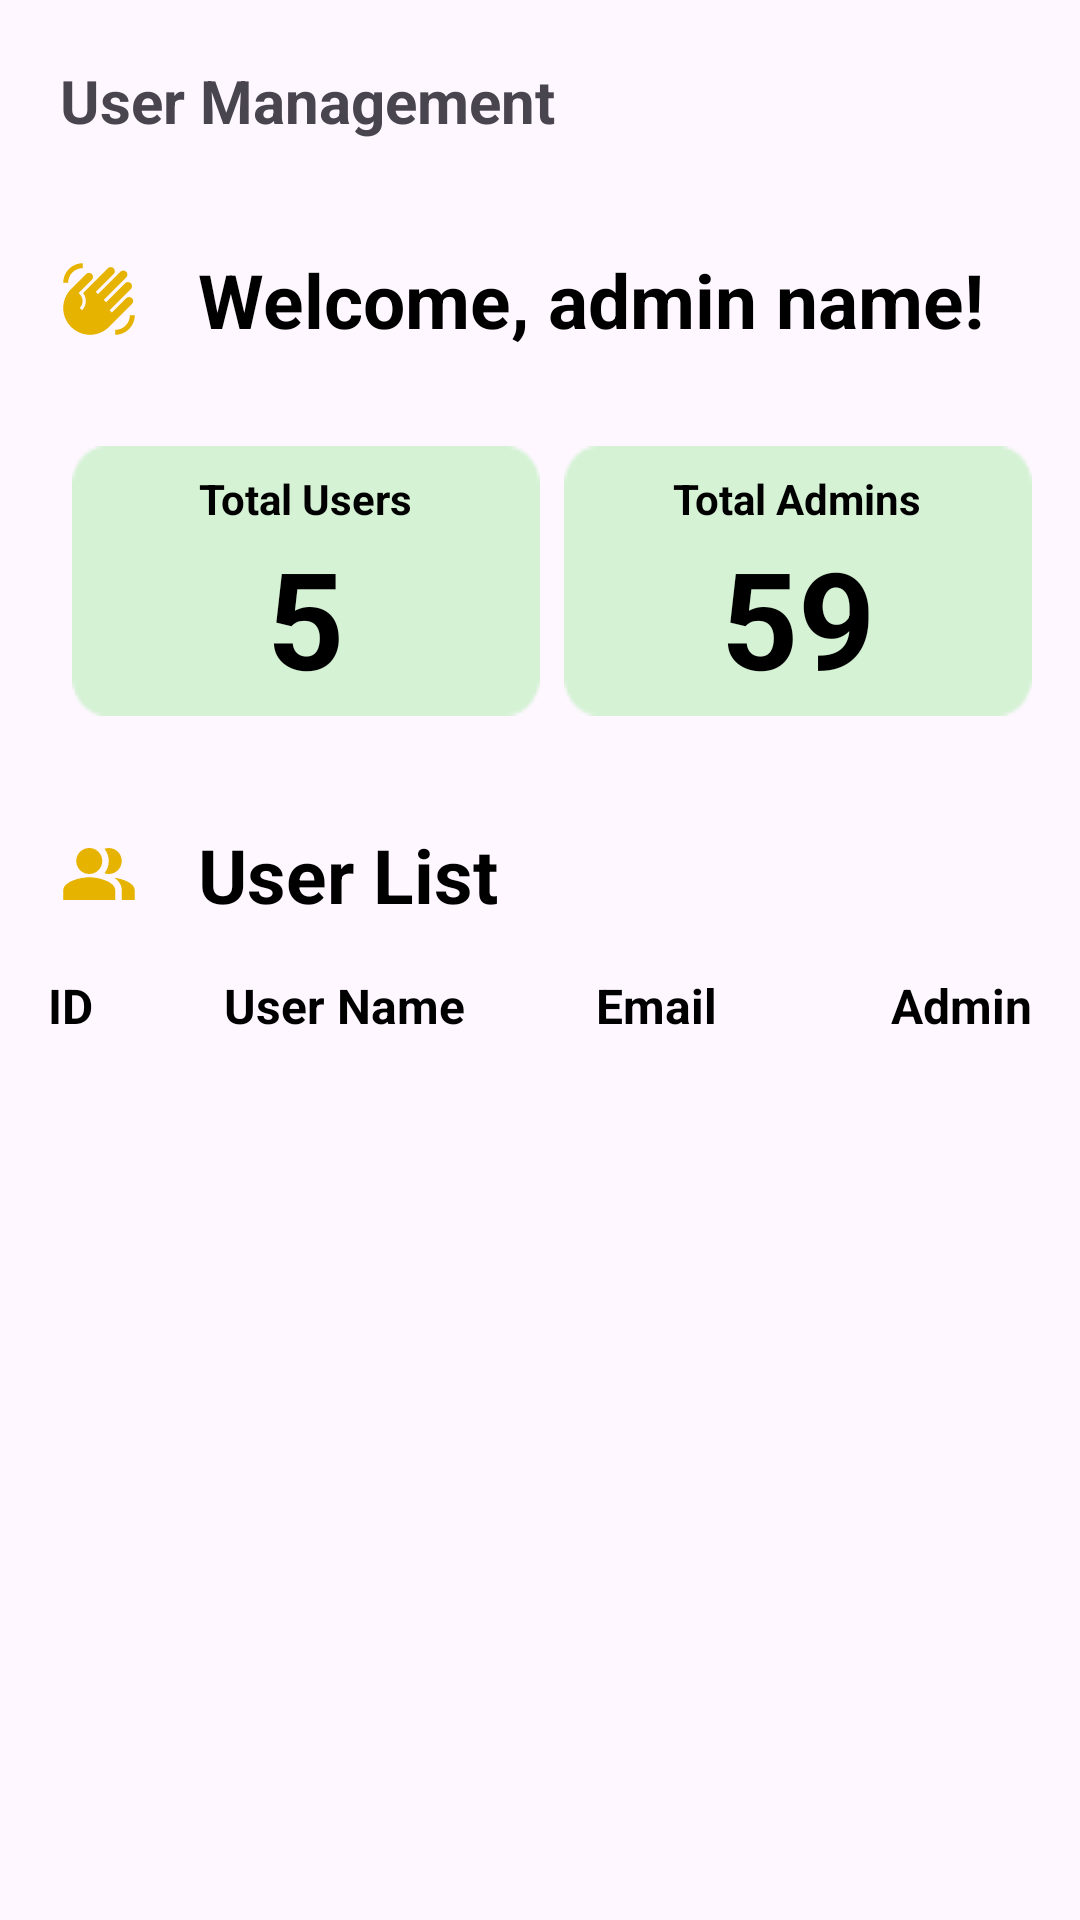

Icons on this 1080 × 1920 Android screen, each with the point to tap as [x,y]:
users: [99,874]
waving hand: [99,299]
